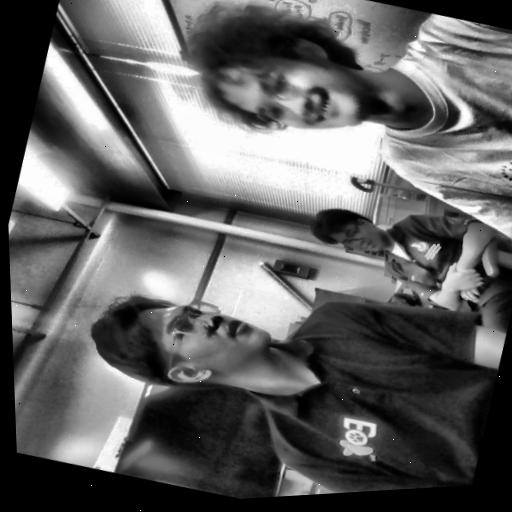Daifuku: (161, 0, 396, 164)
Not Daifuku: (77, 272, 286, 416), (301, 194, 395, 264)
